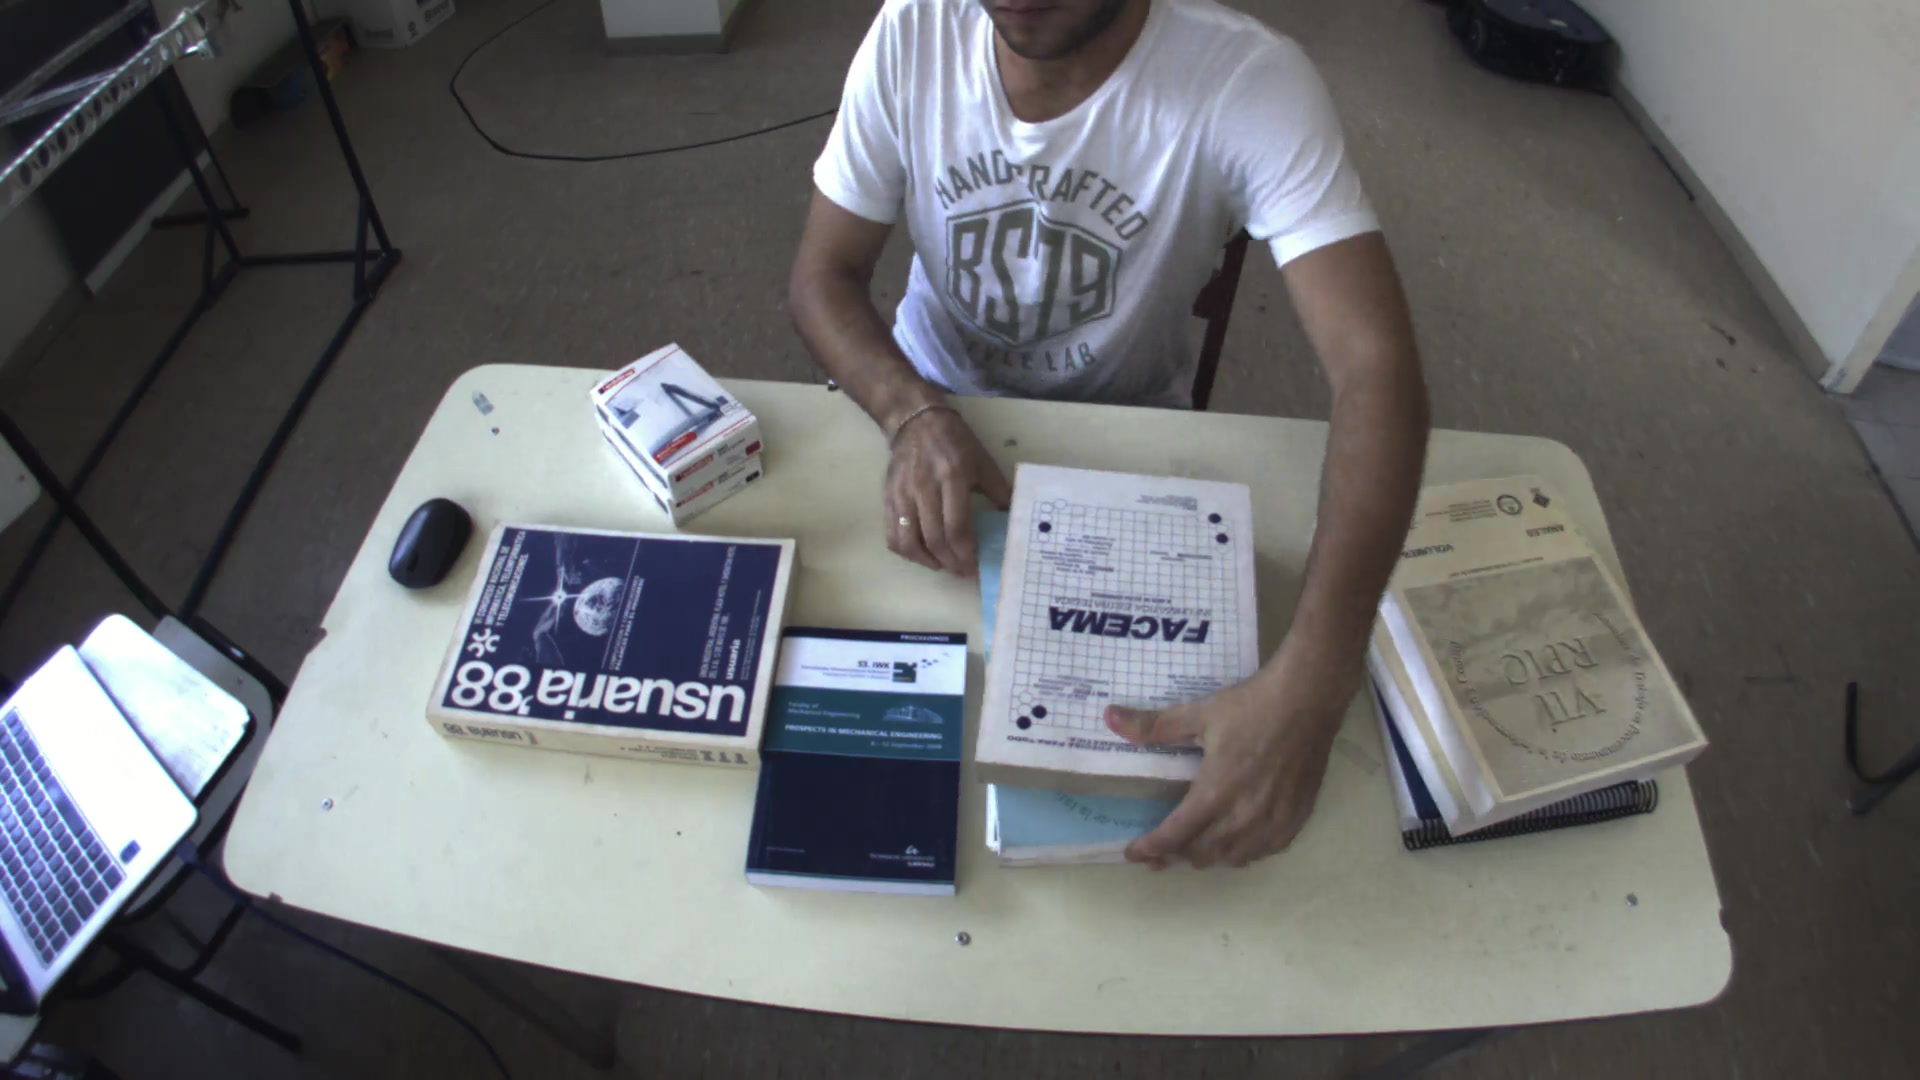hand: (1085, 680, 1344, 878), (864, 398, 1013, 578)
